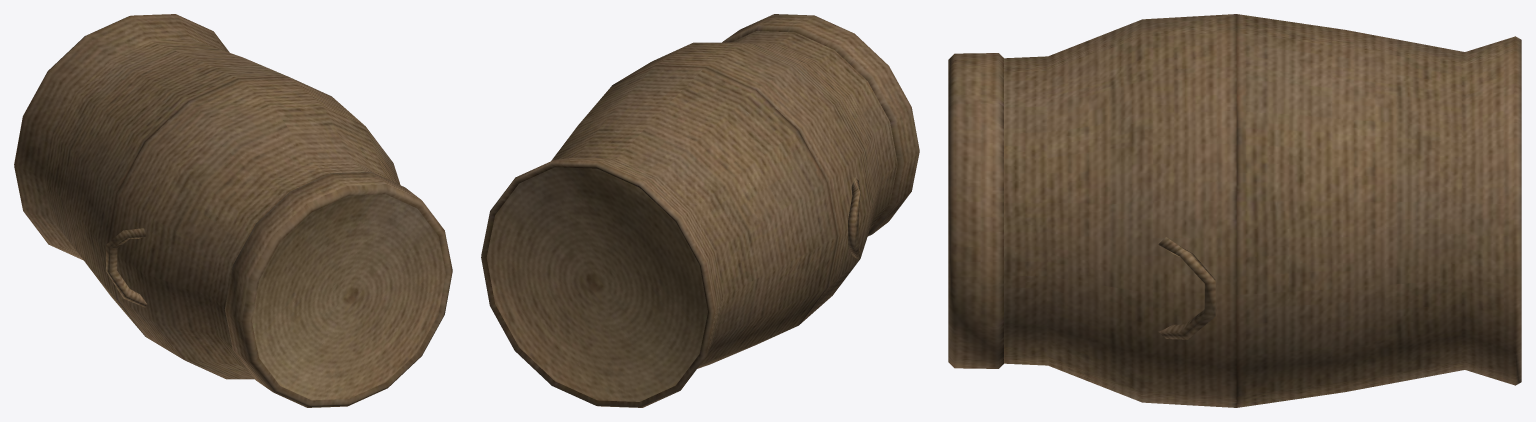
Rendered from prop_wickerbasket6.glb.
3 views of the same model, side by side, from view 1: azimuth 30°, elevation 25°; view 2: azimuth 150°, elevation 25°; view 3: azimuth 270°, elevation 25° (orthographic). The views are drawn at different scales.
Bounding box in the file's own units: 35.54 × 33.29 × 48.39.
Materials: 1 (1 with a texture image).
